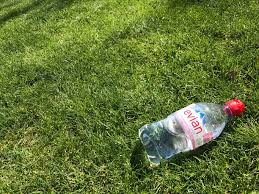plastic_bottle: (137, 98, 246, 165)
